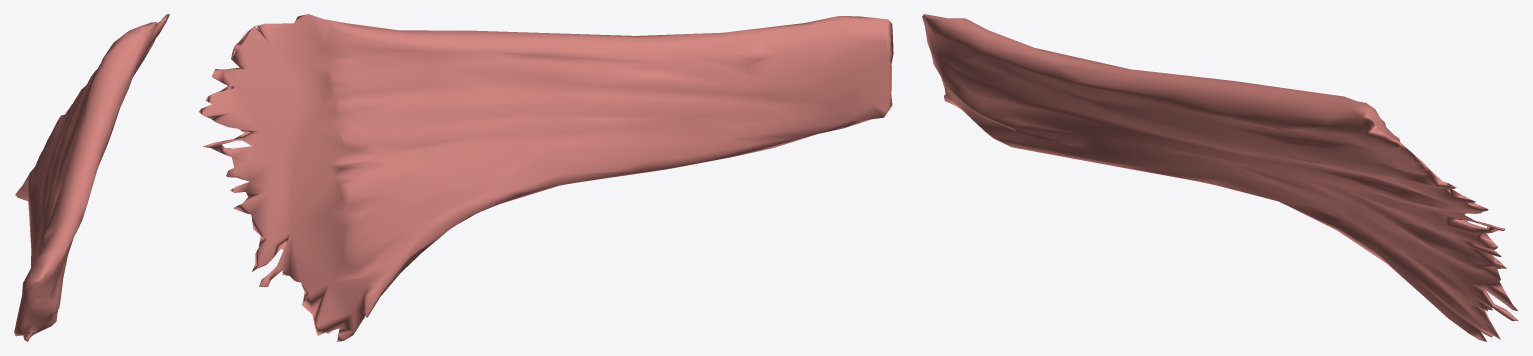
The model's file is fma46840_mm1121.glb.
The picture shows the model from 3 angles, left to right: view 1: azimuth 30°, elevation 25°; view 2: azimuth 150°, elevation 25°; view 3: azimuth 270°, elevation 25°; orthographic projection. The views are drawn at different scales.
Parts seen in each view (by area): view 1: FMA46840_MM1121; view 2: FMA46840_MM1121; view 3: FMA46840_MM1121.
Boxes of the visible parts, box(x1,y1,x2,y2) form: FMA46840_MM1121: box(14, 14, 169, 341); FMA46840_MM1121: box(198, 14, 893, 341); FMA46840_MM1121: box(922, 14, 1518, 341).
Size of the model in its own units: 0.0288 by 0.0169 by 0.0339.
